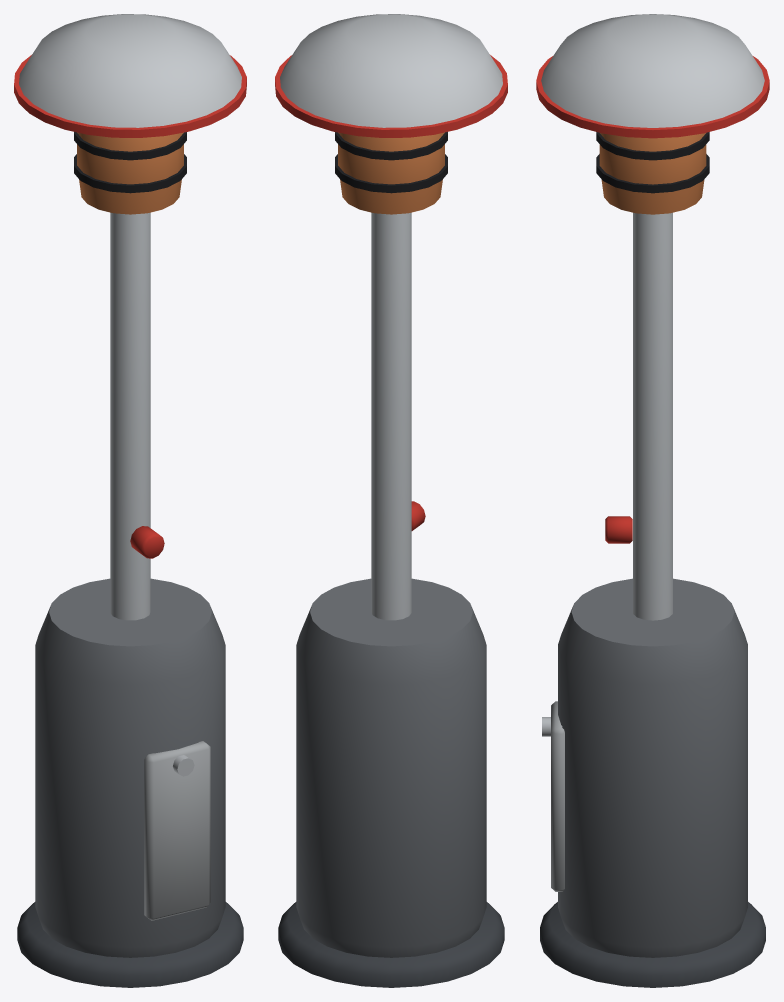
Rendered from SM_Patio_Heater_01.glb.
The picture shows the model from 3 angles, left to right: view 1: azimuth 30°, elevation 25°; view 2: azimuth 150°, elevation 25°; view 3: azimuth 270°, elevation 25°; orthographic projection.
Parts seen in each view (by area): view 1: SM_Patio_Heater_01; view 2: SM_Patio_Heater_01; view 3: SM_Patio_Heater_01.
Boxes of the visible parts, x1,y1,x2,y2 form: SM_Patio_Heater_01: [14, 14, 246, 987]; SM_Patio_Heater_01: [275, 14, 507, 987]; SM_Patio_Heater_01: [536, 14, 769, 987].
Bounding box in the file's own units: 0.516 × 2.21 × 0.516.
1 material, 1 textured.
